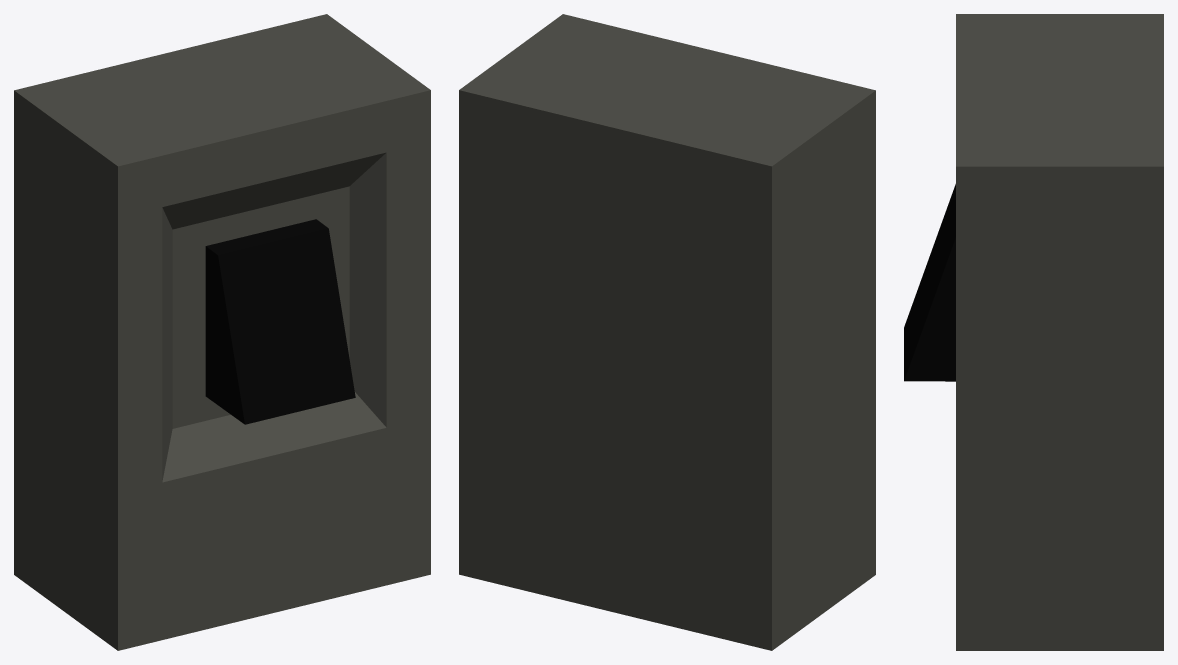
The model's file is Cong Tac.fbx.
The picture shows the model from 3 angles, left to right: view 1: azimuth 30°, elevation 25°; view 2: azimuth 150°, elevation 25°; view 3: azimuth 270°, elevation 25°; orthographic projection.
Parts seen in each view (by area): view 1: Congtac01, Congtac02; view 2: Congtac01; view 3: Congtac01, Congtac02.
Part boxes in pixels (x1=…): Congtac01: x1=14, y1=14, x2=430, y2=650; Congtac02: x1=205, y1=219, x2=355, y2=424; Congtac01: x1=459, y1=14, x2=875, y2=650; Congtac01: x1=956, y1=14, x2=1163, y2=650; Congtac02: x1=904, y1=184, x2=955, y2=381.
Bounding box in the file's own units: 15.06 × 22.28 × 10.83.
1 material, 1 textured.
